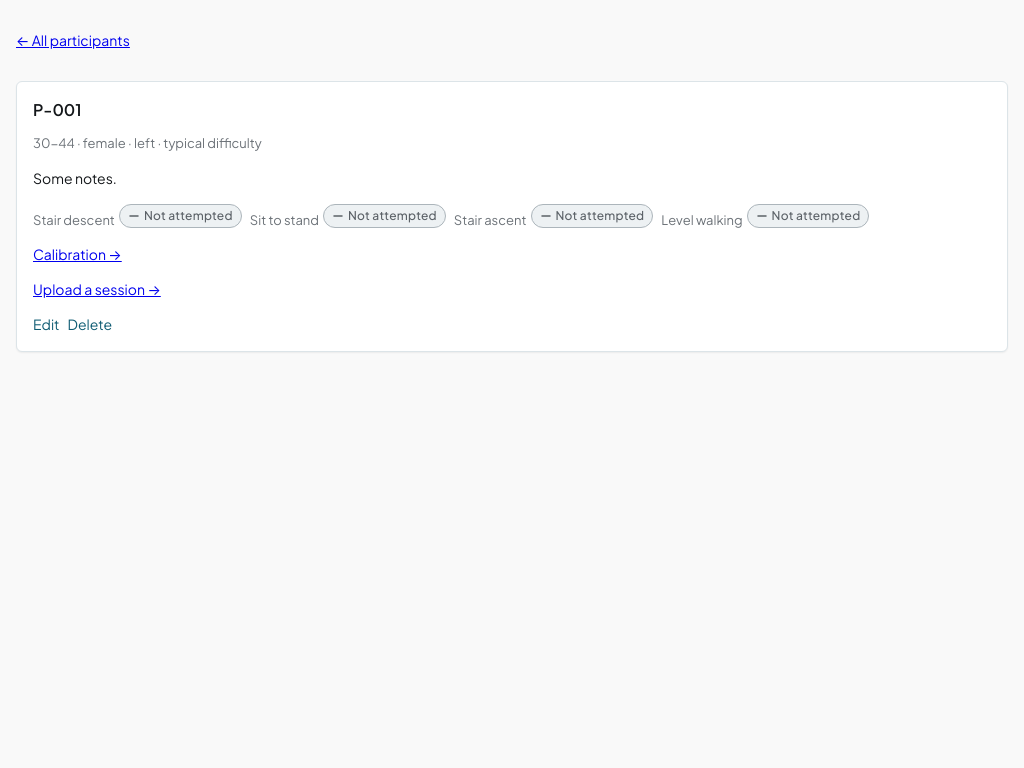
Test: ParticipantDetailPage › cancels editing without saving
Expected: the heading "P-001" is shown, [33, 99, 82, 120]
Click the button "Edit". click: [46, 324]
box: [33, 314, 60, 335]
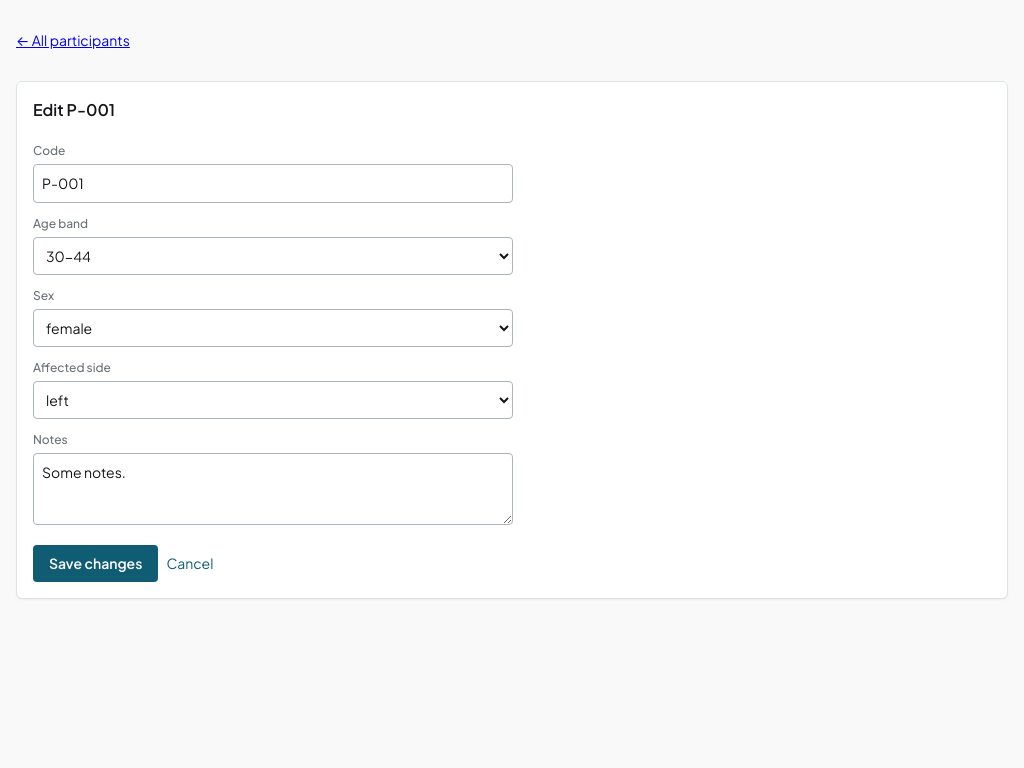
Expected: the button "Save changes" is shown, [33, 545, 158, 582]
Click the button "Cancel". click: [190, 564]
box: [166, 553, 213, 574]
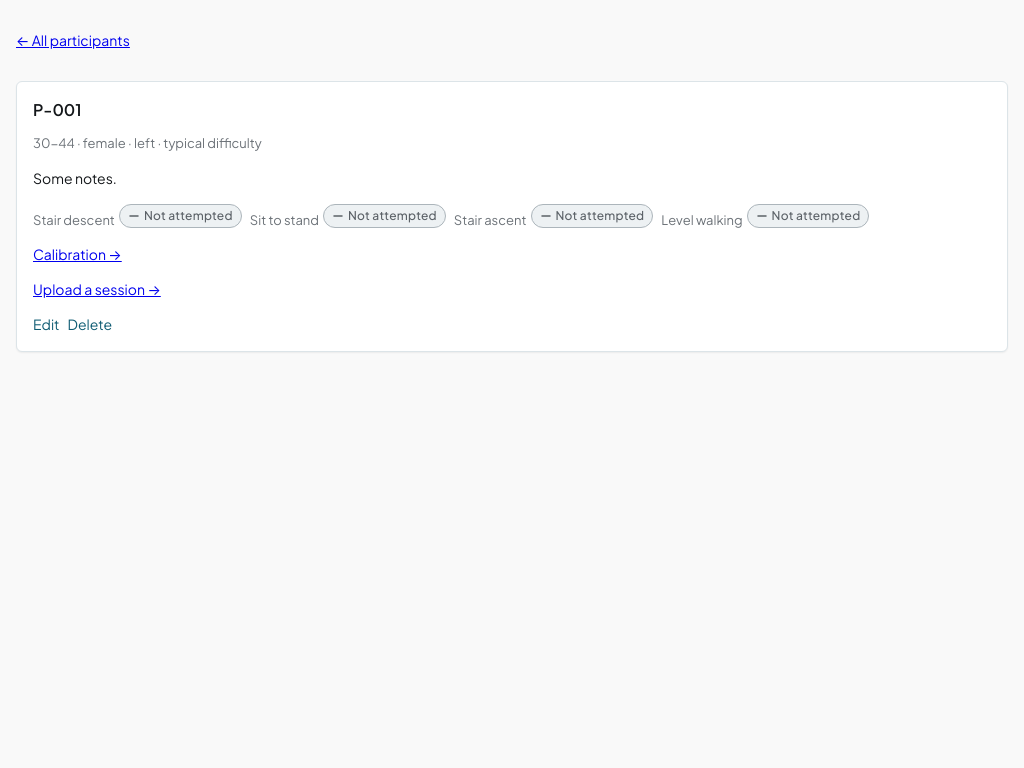
Expected: the button "Save changes" is gone
